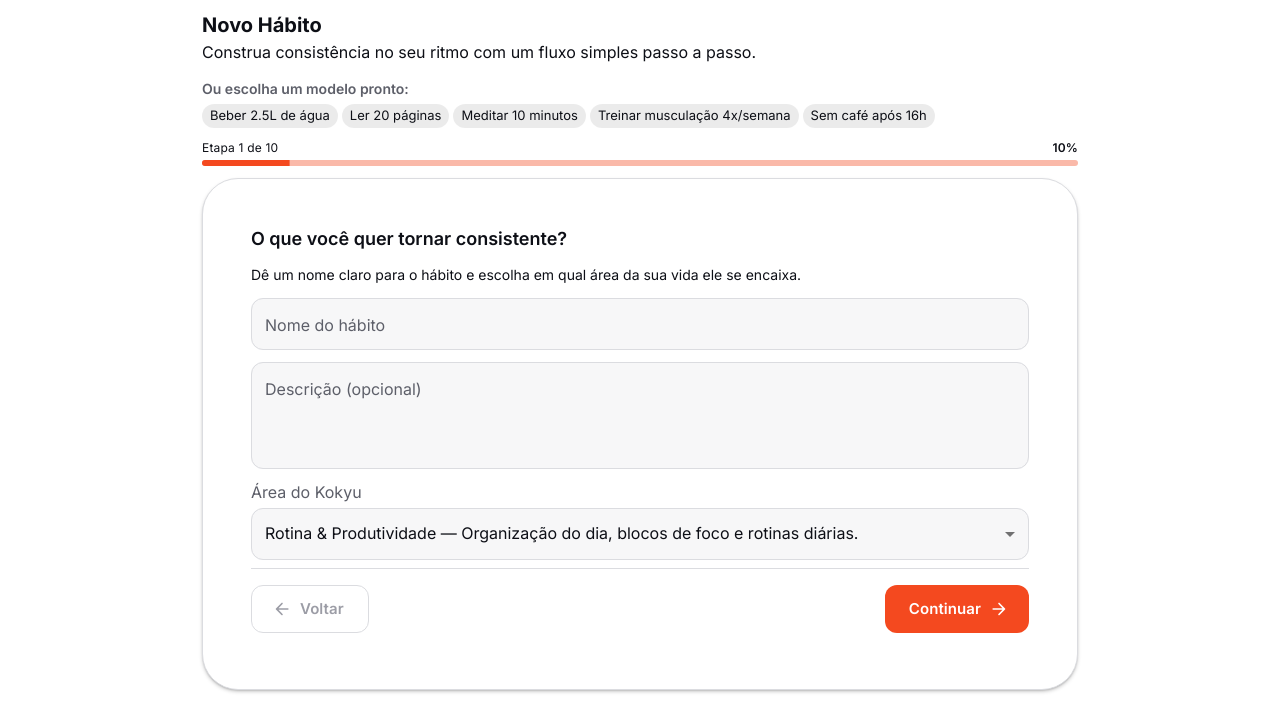
it: HabitFormPage › renders Step 1 and advances steps on "Continuar"
Expected: the heading "Novo Hábito" is shown, left=202, top=13, right=322, bottom=37
Expected: the heading "O que você quer tornar consistente?" is shown, left=251, top=228, right=567, bottom=250
Type "Meditar 10 minutos" into the field labelled "Nome do hábito" at (640, 324), box left=251, top=298, right=1029, bottom=349
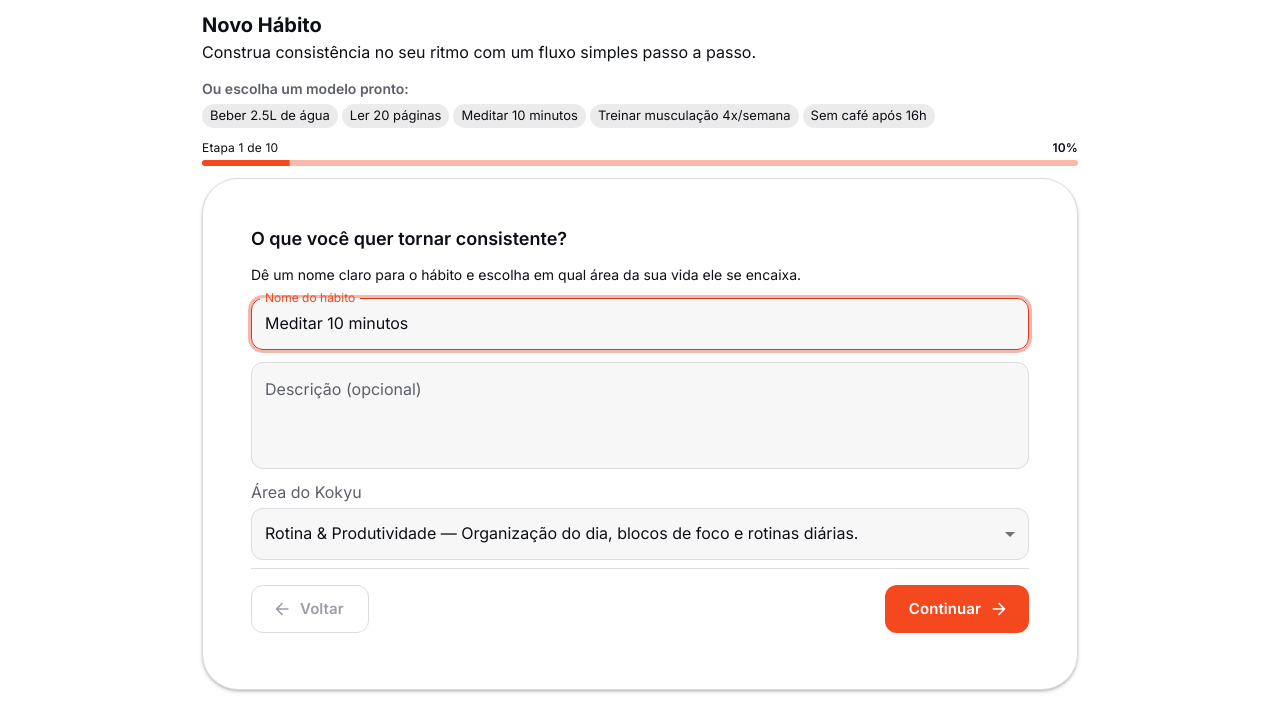
Click the button "Continuar" at (957, 609), box left=885, top=585, right=1029, bottom=633
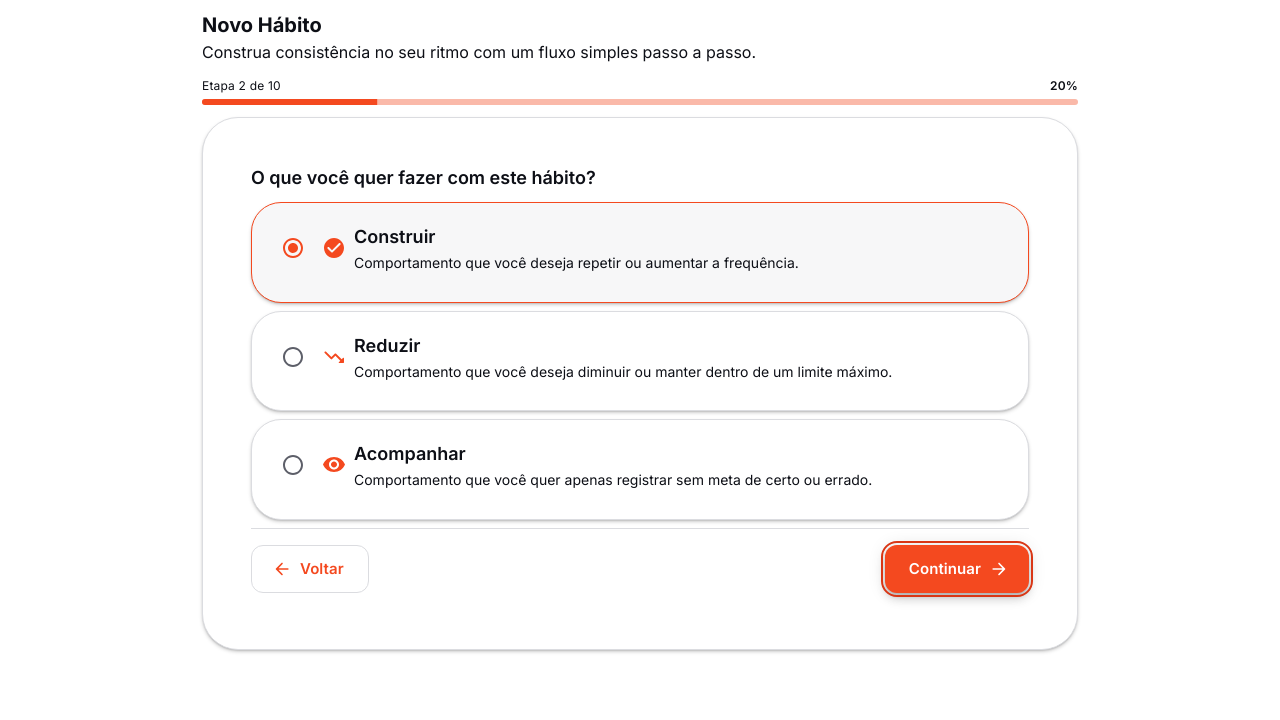
Expected: the heading "O que você quer fazer com este hábito?" is shown, left=251, top=167, right=596, bottom=188
